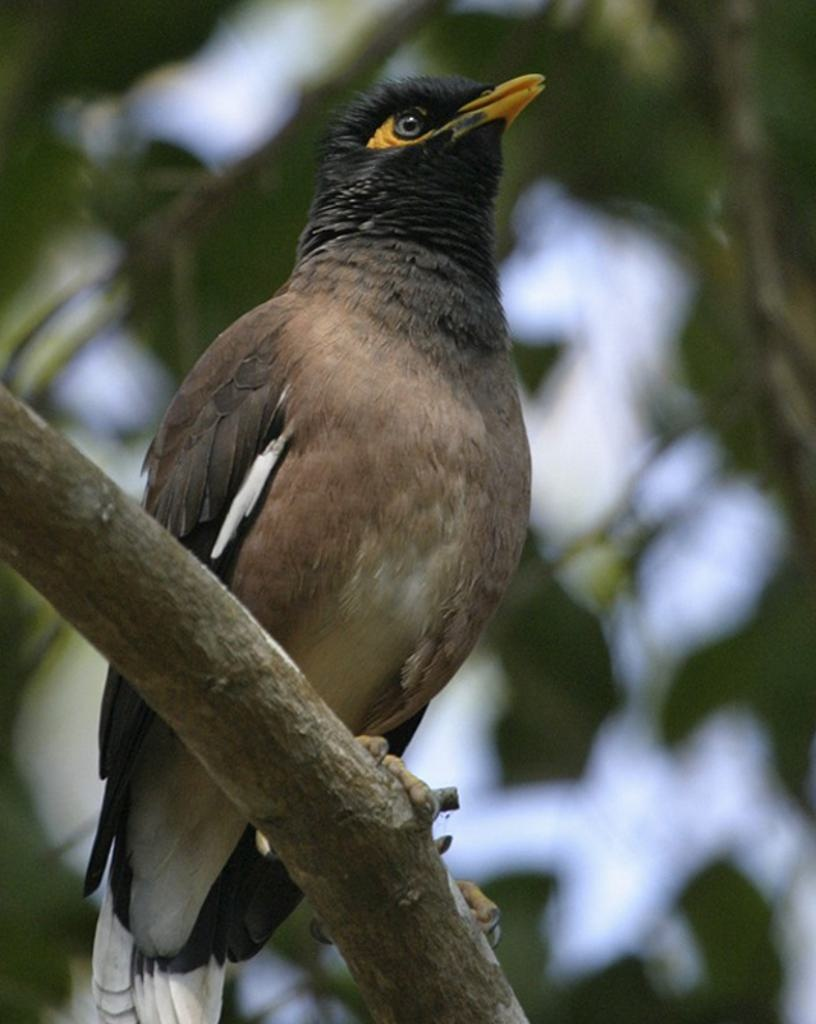myna: (134, 78, 598, 874)
